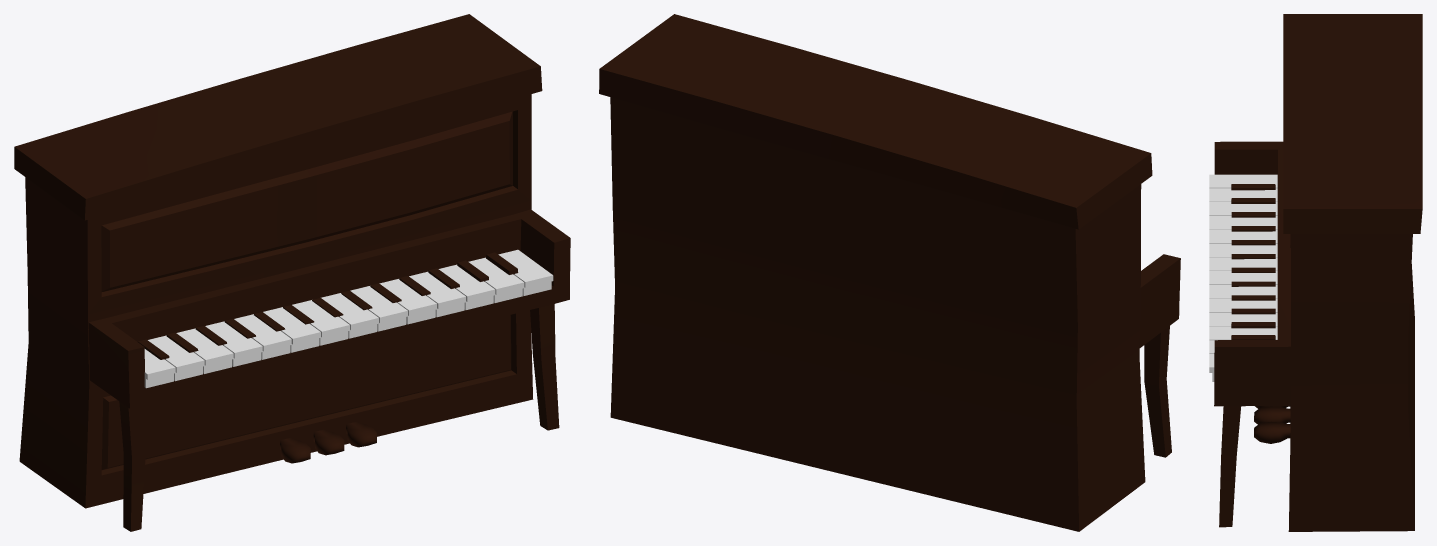
Rendered from SM_Piano.FBX.
The picture shows the model from 3 angles, left to right: view 1: azimuth 30°, elevation 25°; view 2: azimuth 150°, elevation 25°; view 3: azimuth 270°, elevation 25°; orthographic projection. The views are drawn at different scales.
Visible parts, largest first — view 1: Piano, Piano_Key14, Piano_Key6, Piano_Key8, Piano_Key7, Piano_Key5, Piano_Key9, Piano_Key10, Piano_Key4, Piano_Key11, Piano_Key3, Piano_Key2 (+3 smaller); view 2: Piano; view 3: Piano, Piano_Key1, Piano_Key9, Piano_Key5, Piano_Key10, Piano_Key6, Piano_Key4, Piano_Key7, Piano_Key8, Piano_Key11, Piano_Key2, Piano_Key3 (+1 smaller).
Part boxes in pixels (left/top/right/bottom): Piano: left=14, top=14, right=570, bottom=531; Piano_Key14: left=498, top=249, right=553, bottom=295; Piano_Key6: left=263, top=307, right=320, bottom=352; Piano_Key8: left=321, top=293, right=378, bottom=338; Piano_Key7: left=292, top=300, right=349, bottom=345; Piano_Key5: left=234, top=314, right=291, bottom=359; Piano_Key9: left=350, top=286, right=407, bottom=331; Piano_Key10: left=379, top=279, right=436, bottom=324; Piano_Key4: left=205, top=321, right=262, bottom=366; Piano_Key11: left=409, top=271, right=465, bottom=317; Piano_Key3: left=176, top=328, right=233, bottom=373; Piano_Key2: left=148, top=335, right=204, bottom=381; Piano: left=599, top=14, right=1180, bottom=531; Piano: left=1214, top=14, right=1422, bottom=531; Piano_Key1: left=1209, top=174, right=1277, bottom=188; Piano_Key9: left=1209, top=285, right=1277, bottom=298; Piano_Key5: left=1209, top=229, right=1277, bottom=243; Piano_Key10: left=1209, top=298, right=1277, bottom=312; Piano_Key6: left=1209, top=243, right=1277, bottom=257; Piano_Key4: left=1209, top=216, right=1277, bottom=229; Piano_Key7: left=1209, top=257, right=1277, bottom=270; Piano_Key8: left=1209, top=271, right=1277, bottom=284; Piano_Key11: left=1209, top=312, right=1277, bottom=326; Piano_Key2: left=1209, top=188, right=1277, bottom=201; Piano_Key3: left=1209, top=202, right=1277, bottom=215.
Size of the model in its own units: 238 by 166 by 98.64.
